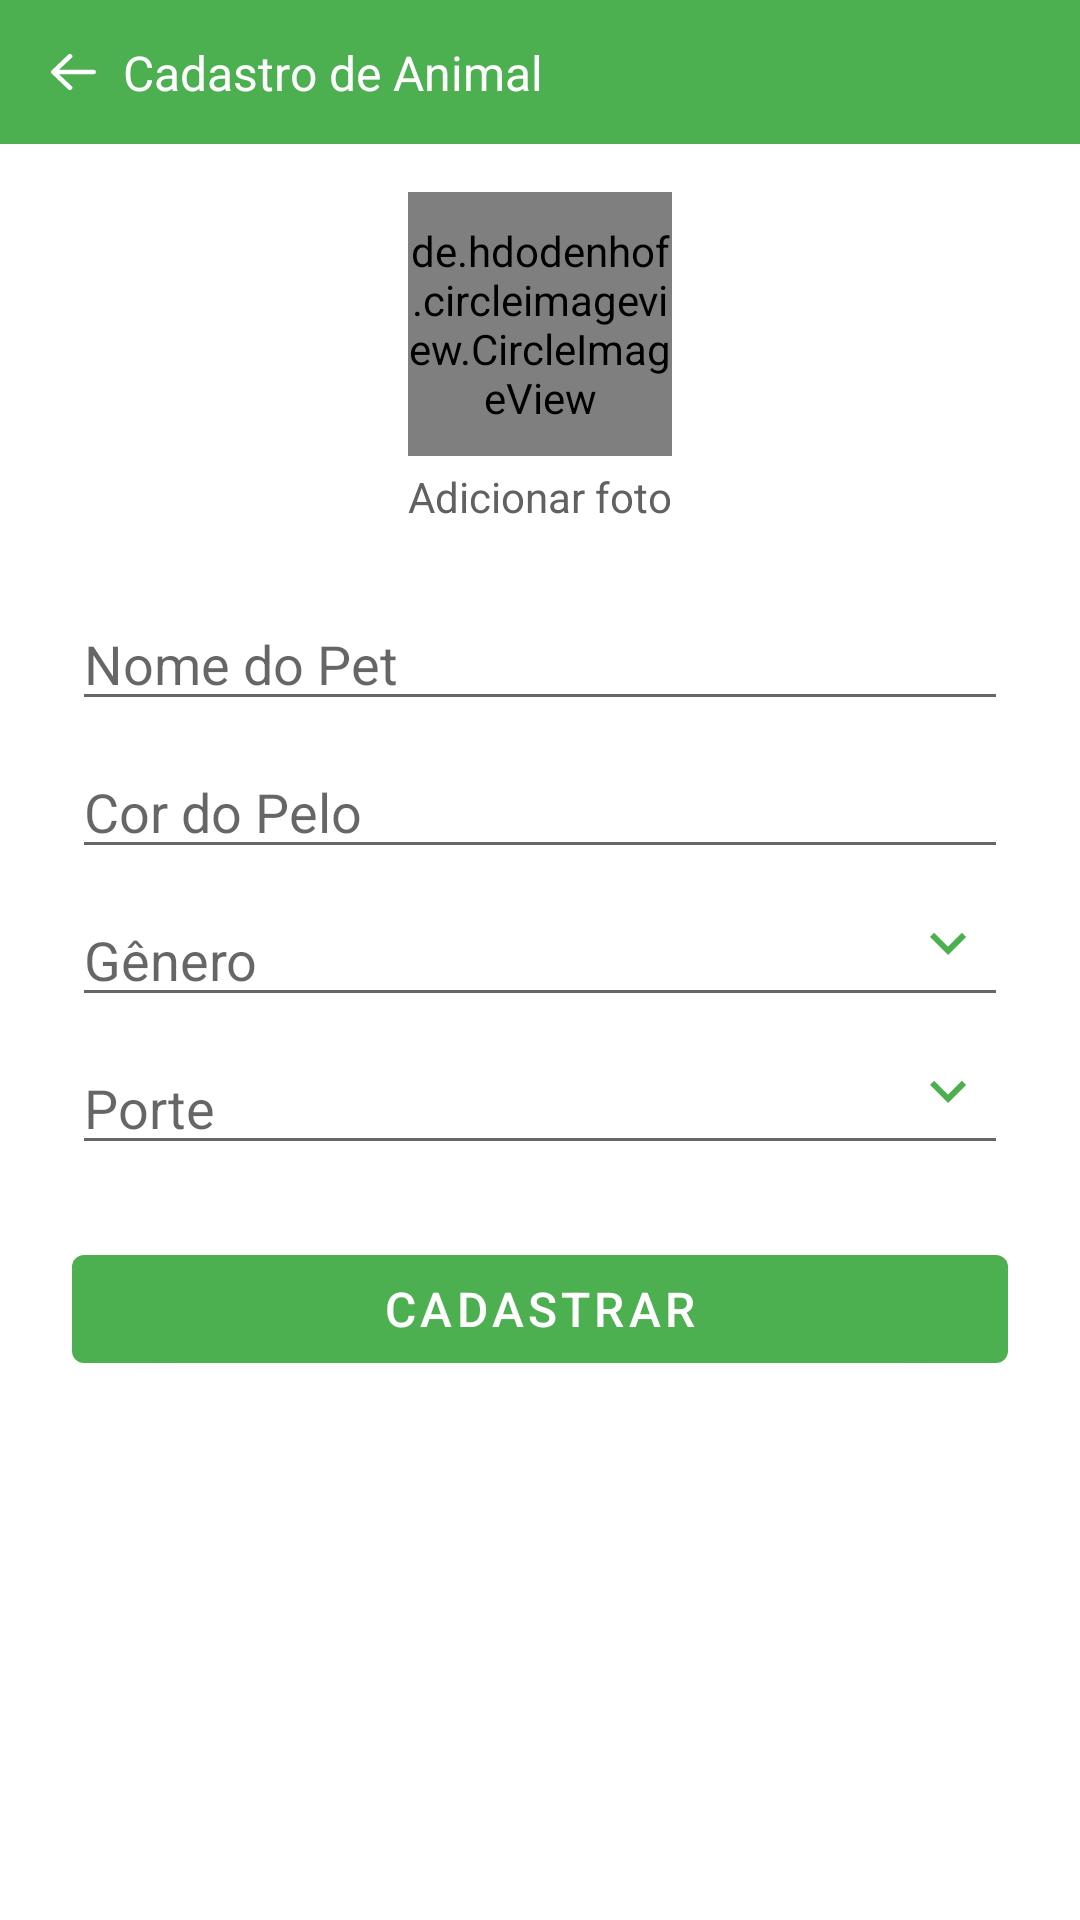

Screen size 1080*1920. Icon name, then its center in pixels as point (x, y):
arrow back: point (73, 72)
spinner arraw down: point (948, 944), point (948, 1092)
